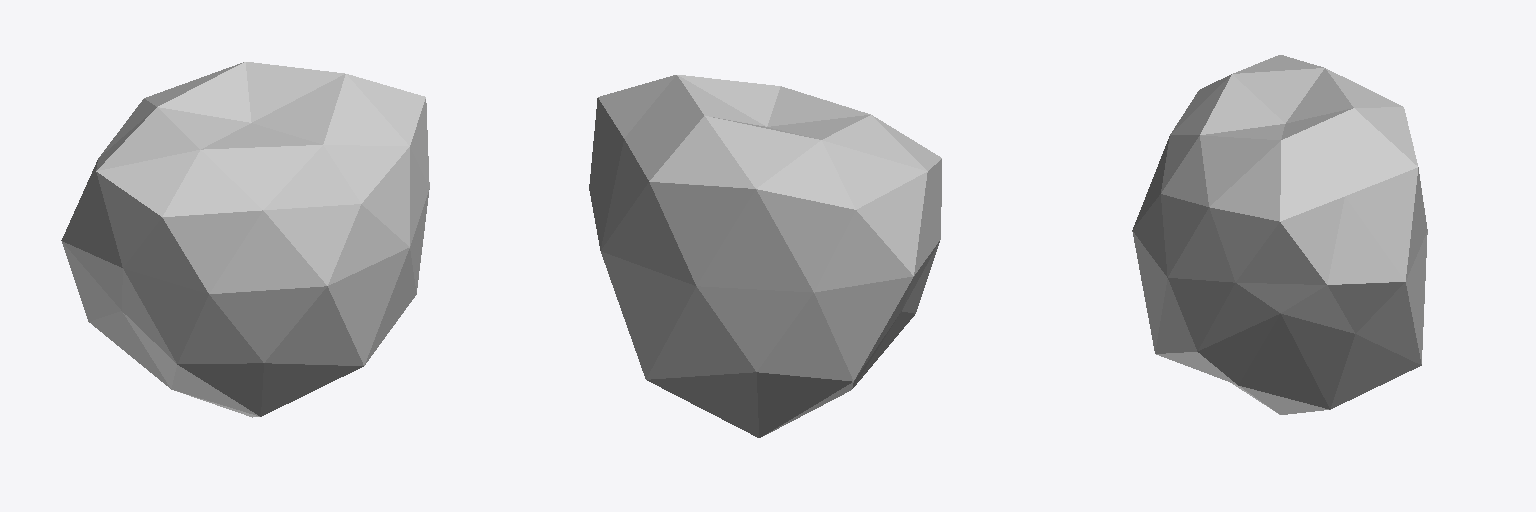
File: RockA.obj
3 views of the same model, side by side, from view 1: azimuth 30°, elevation 25°; view 2: azimuth 150°, elevation 25°; view 3: azimuth 270°, elevation 25° (orthographic).
Parts seen in each view (by area): view 1: Rock_Icosphere.001; view 2: Rock_Icosphere.001; view 3: Rock_Icosphere.001.
Boxes of the visible parts, box(x1,y1,x2,y2) form: Rock_Icosphere.001: box(61, 62, 429, 417); Rock_Icosphere.001: box(589, 75, 941, 437); Rock_Icosphere.001: box(1132, 55, 1427, 414).
Size of the model in its own units: 1.91 by 1.72 by 1.43.